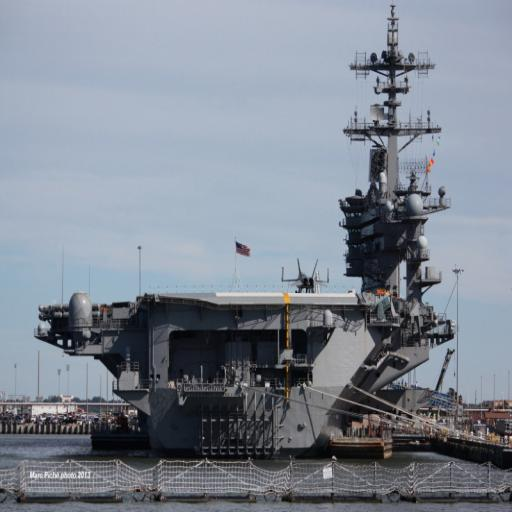Portanaves: (37, 3, 451, 458)
